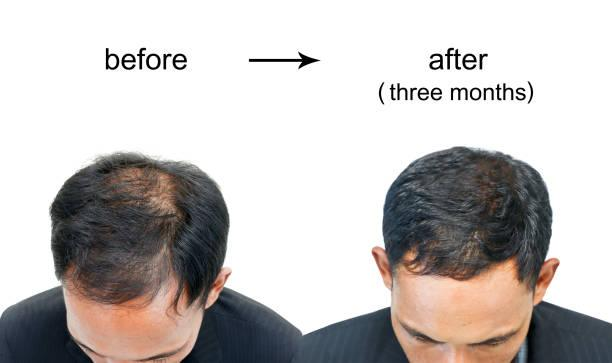dry hair: (63, 202, 101, 225)
low hair density: (107, 163, 179, 211), (80, 236, 170, 274)
